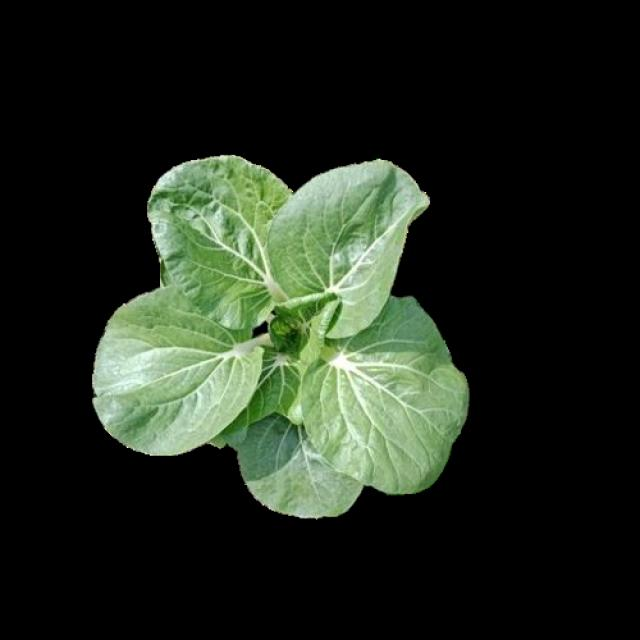healthy: (104, 170, 467, 511)
mature: (93, 162, 470, 514)
